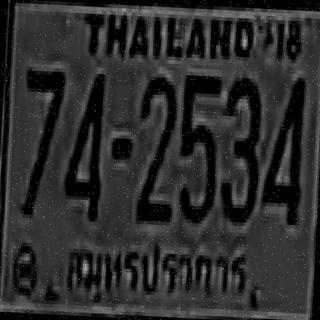N02: (134, 73, 177, 222)
N03: (219, 74, 262, 220)
N04: (260, 72, 305, 222), (62, 69, 105, 218)
N05: (176, 72, 220, 221)
N07: (19, 67, 64, 213)
P57: (61, 232, 257, 312)
